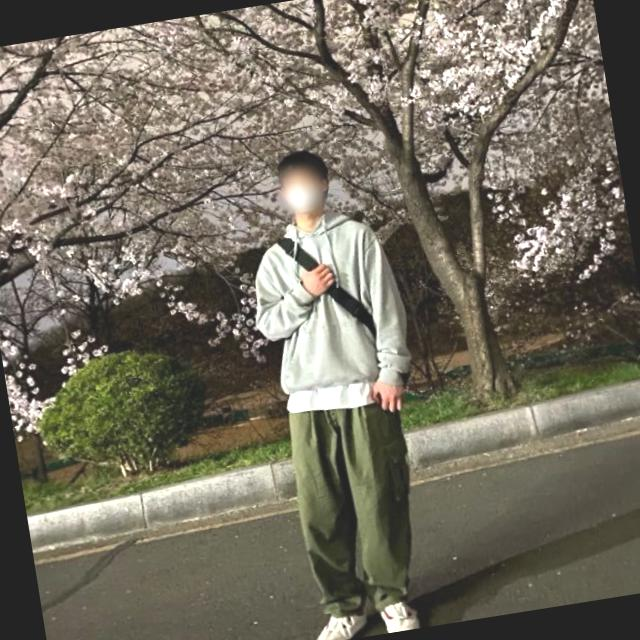cottonpants: (280, 397, 430, 628)
hoodies: (238, 202, 418, 412)
